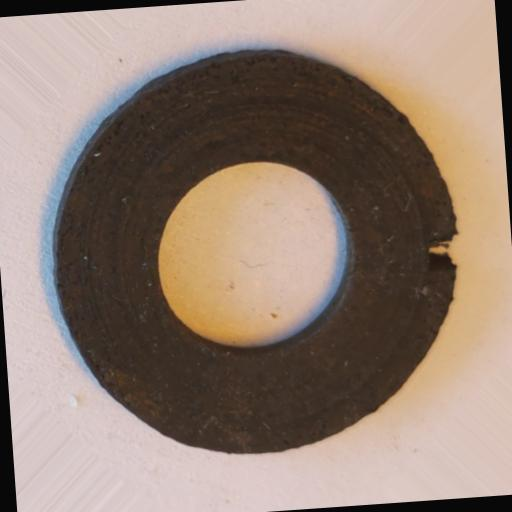defect: (422, 232, 459, 274)
